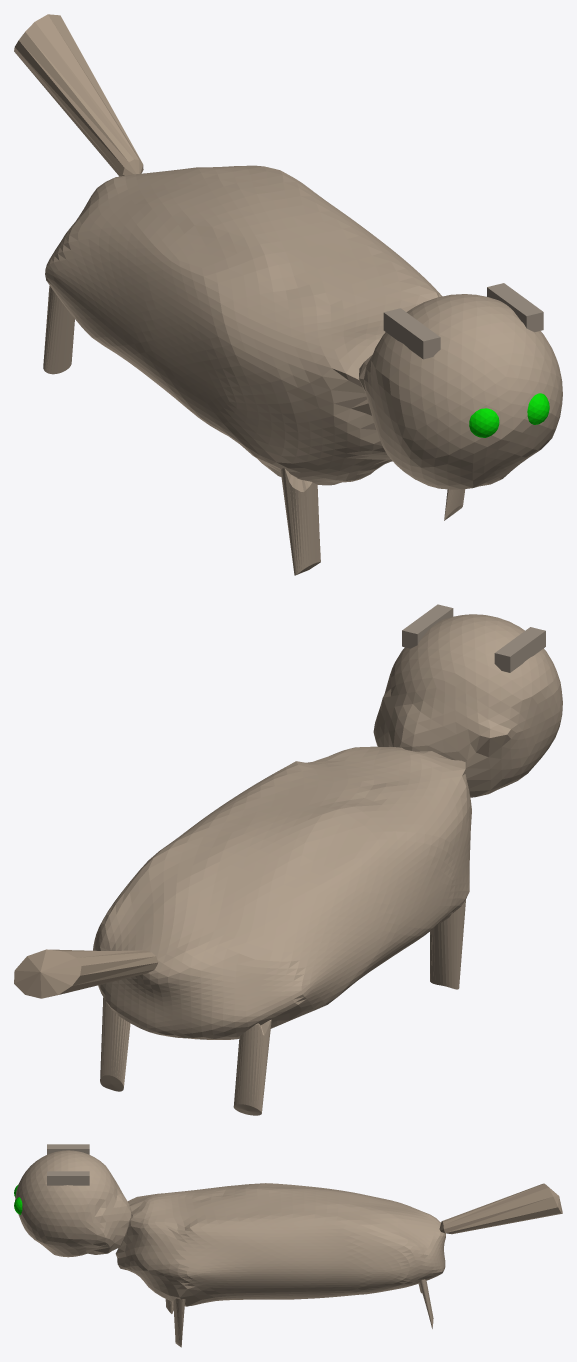
The model's file is fluffy_cat.glb.
3 renders of one model, top to bottom at view 1: azimuth 30°, elevation 25°; view 2: azimuth 150°, elevation 25°; view 3: azimuth 270°, elevation 25°, orthographic. The views are drawn at different scales.
Visible parts, largest first — view 1: world; view 2: world; view 3: world.
Part boxes in pixels (box(x1,y1,x2,y2)): world: box(14, 14, 562, 575); world: box(14, 604, 562, 1115); world: box(14, 1144, 562, 1347).
Size of the model in its own units: 0.7236 by 0.8941 by 2.57.
